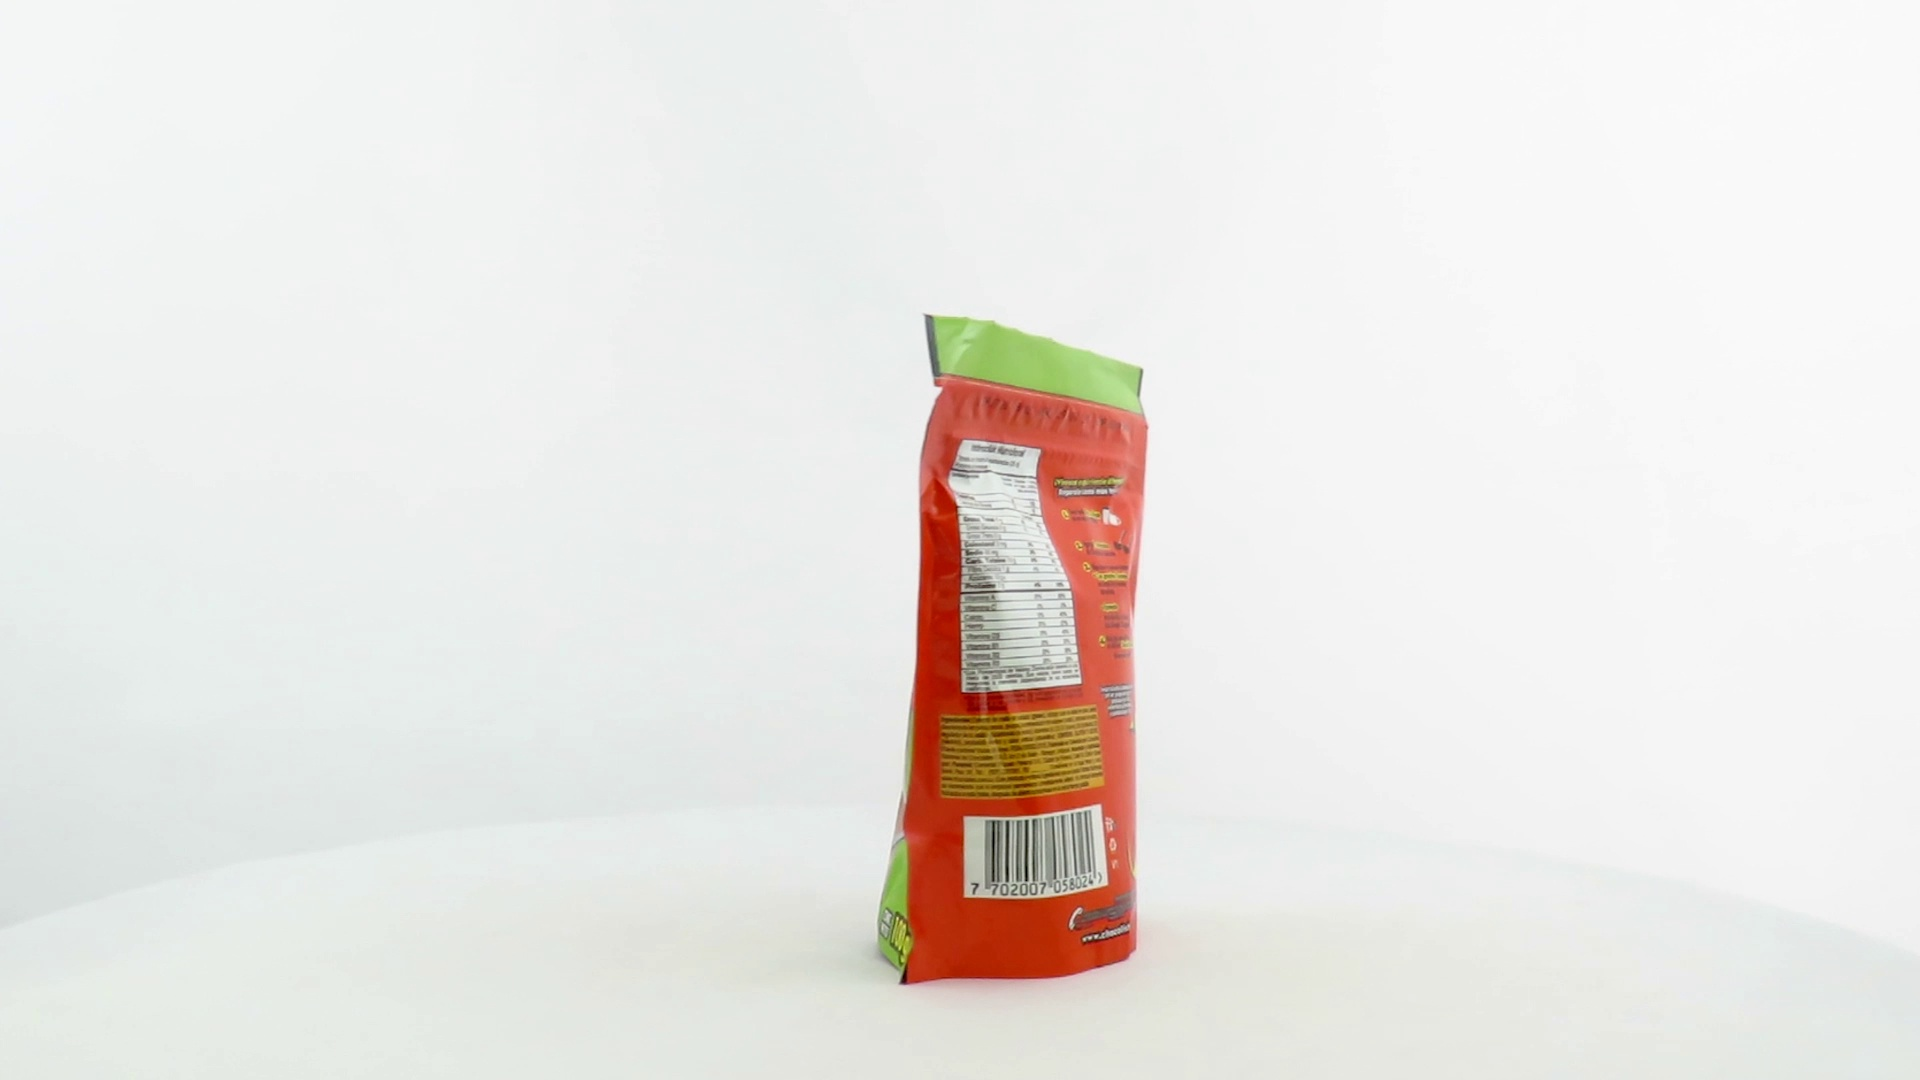COL0170102DYP10000: (872, 309, 1155, 992)
